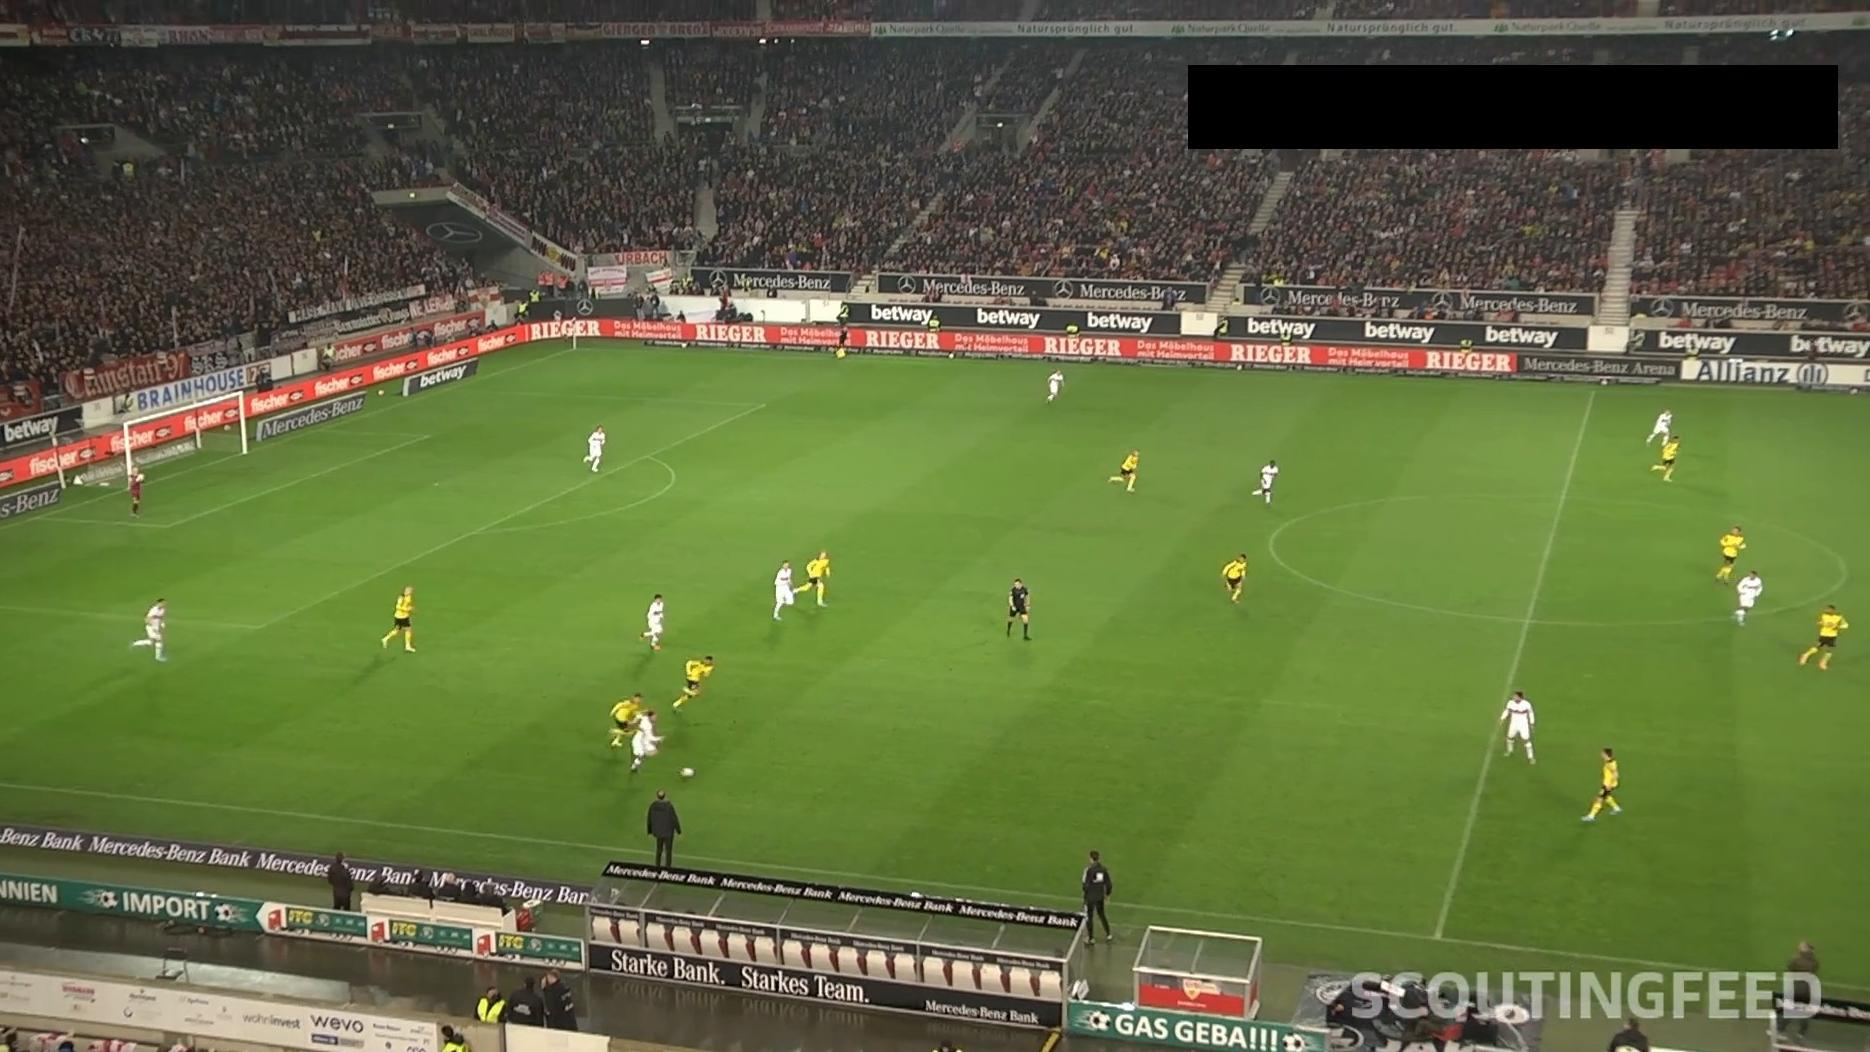ball: (678, 766, 696, 780)
